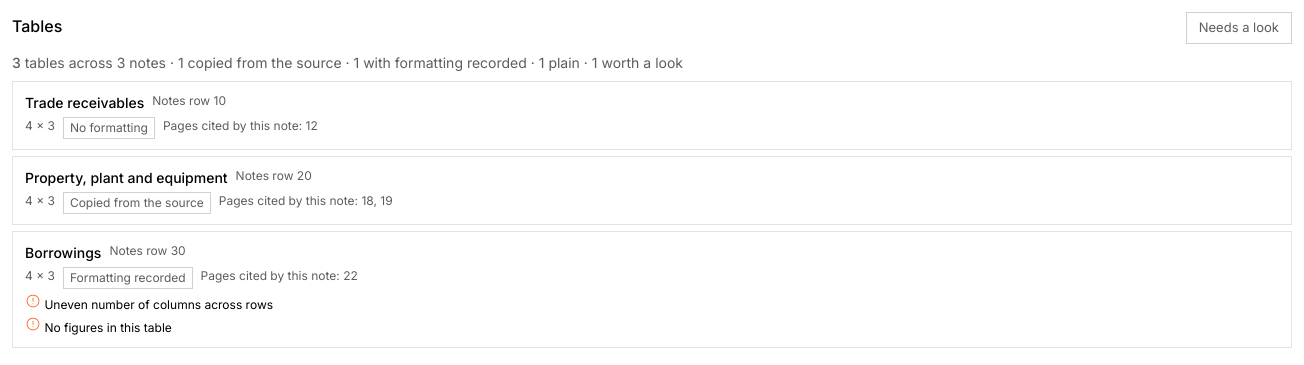
it: NotesTablesPanel › selecting a table shows the source page beside it
The width and height of the screenshot is (1304, 365).
expect the text "Property, plant and equipment" is shown: met, box [25,166,228,188]
Click the button with test id "notes-table-row-Notes:20:0".
click(126, 177)  # box [12,156,1292,224]
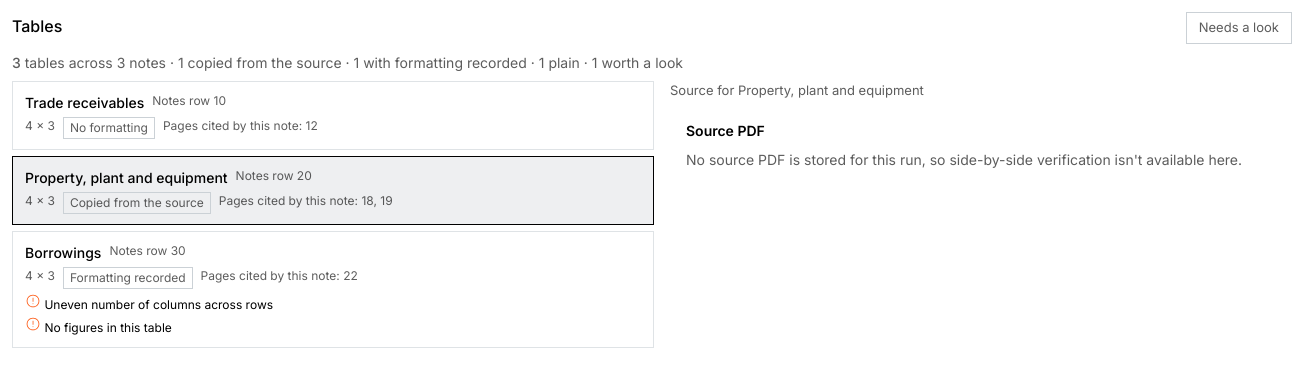
expect the element with test id "notes-tables-source" is shown: met, box [670,80,1292,186]
